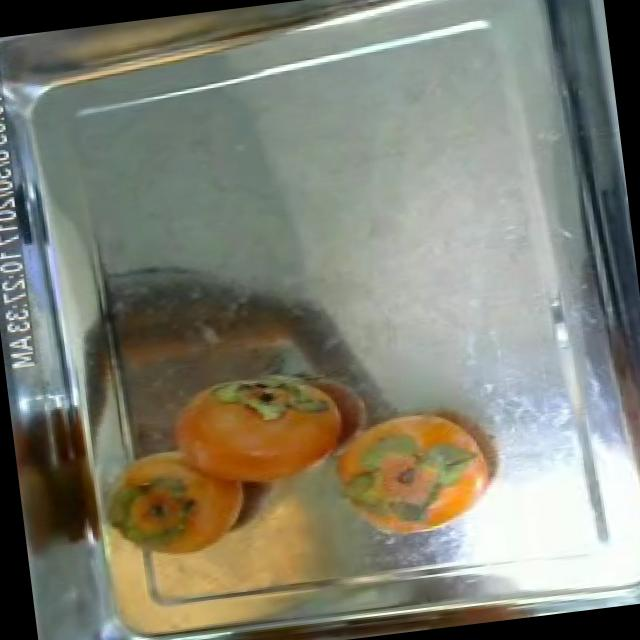Fruit: (306, 389, 513, 555)
